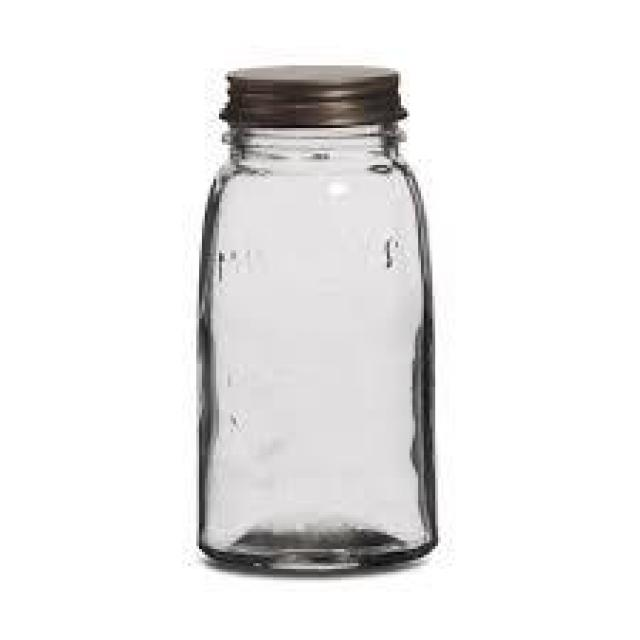non-organic waste: (190, 60, 441, 583)
